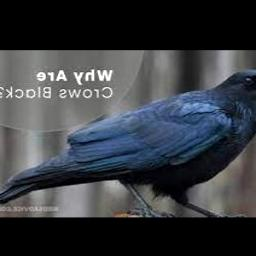Crow: (0, 70, 256, 216)
